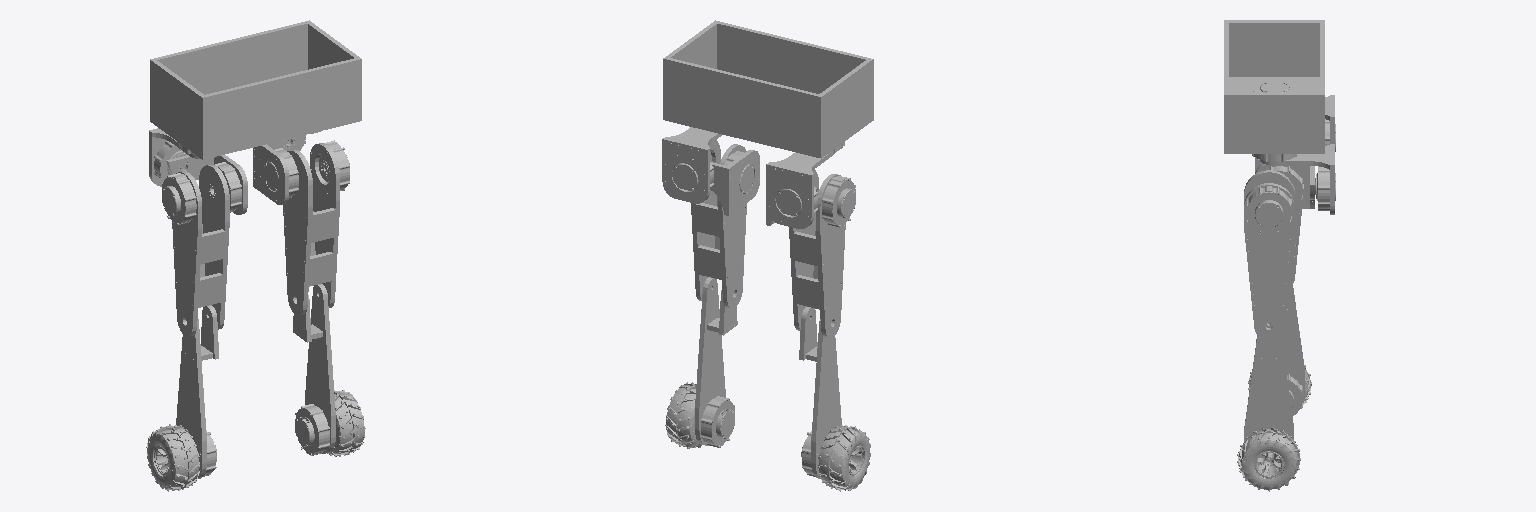
robot.urdf — HOANTHIEN_TEST:
<?xml version="1.0" encoding="utf-8"?>
<!-- This URDF was automatically created by SolidWorks to URDF Exporter! Originally created by Stephen Brawner (brawner@gmail.com) 
     Commit Version: 1.6.0-4-g7f85cfe  Build Version: 1.6.7995.38578
     For more information, please see http://wiki.ros.org/sw_urdf_exporter -->
<robot
  name="HOANTHIEN_TEST">
  <link
    name="than">
    <inertial>
      <origin
        xyz="-1.9106E-17 1.8362E-17 0.040584"
        rpy="0 0 0" />
      <mass
        value="2.5" />
      <inertia
        ixx="0.005598"
        ixy="2.9719E-08"
        ixz="7.4689E-19"
        iyy="0.015241"
        iyz="1.5647E-19"
        izz="0.017751" />
    </inertial>
    <visual>
      <origin
        xyz="0 0 0"
        rpy="0 0 0" />
      <geometry>
        <mesh
          filename="package://HOANTHIEN_TEST/meshes/than.STL" />
      </geometry>
      <material
        name="">
        <color
          rgba="0.75294 0.75294 0.75294 1" />
      </material>
    </visual>
    <collision>
      <origin
        xyz="0 0 0"
        rpy="0 0 0" />
      <geometry>
        <mesh
          filename="package://HOANTHIEN_TEST/meshes/than.STL" />
      </geometry>
    </collision>
  </link>
  <link
    name="eophai">
    <inertial>
      <origin
        xyz="0.088462 -0.047569 2.1318E-06"
        rpy="0 0 0" />
      <mass
        value="0.5" />
      <inertia
        ixx="0.00036543"
        ixy="-1.1178E-07"
        ixz="-8.9385E-10"
        iyy="0.00031624"
        iyz="1.486E-08"
        izz="0.00032404" />
    </inertial>
    <visual>
      <origin
        xyz="0 0 0"
        rpy="0 0 0" />
      <geometry>
        <mesh
          filename="package://HOANTHIEN_TEST/meshes/eophai.STL" />
      </geometry>
      <material
        name="">
        <color
          rgba="0.75294 0.75294 0.75294 1" />
      </material>
    </visual>
    <collision>
      <origin
        xyz="0 0 0"
        rpy="0 0 0" />
      <geometry>
        <mesh
          filename="package://HOANTHIEN_TEST/meshes/eophai.STL" />
      </geometry>
    </collision>
  </link>
  <joint
    name="eophai"
    type="continuous">
    <origin
      xyz="-0.115 0 -0.0295"
      rpy="1.5708 0 1.5708" />
    <parent
      link="than" />
    <child
      link="eophai" />
    <axis
      xyz="0 1 0" />
    <limit
      lower="-0.7"
      upper="0.7"
      effort="22"
      velocity="11.52" />
  </joint>
  <link
    name="xoaychanphai">
    <inertial>
      <origin
        xyz="-0.026182 -0.05199 -0.027696"
        rpy="0 0 0" />
      <mass
        value="0.5" />
      <inertia
        ixx="0.00022857"
        ixy="-9.5216E-06"
        ixz="-1.4919E-08"
        iyy="0.00035308"
        iyz="-1.1175E-07"
        izz="0.000209" />
    </inertial>
    <visual>
      <origin
        xyz="0 0 0"
        rpy="0 0 0" />
      <geometry>
        <mesh
          filename="package://HOANTHIEN_TEST/meshes/xoaychanphai.STL" />
      </geometry>
      <material
        name="">
        <color
          rgba="0.75294 0.75294 0.75294 1" />
      </material>
    </visual>
    <collision>
      <origin
        xyz="0 0 0"
        rpy="0 0 0" />
      <geometry>
        <mesh
          filename="package://HOANTHIEN_TEST/meshes/xoaychanphai.STL" />
      </geometry>
    </collision>
  </link>
  <joint
    name="xoaychanphai"
    type="continuous">
    <origin
      xyz="0 -0.07 0"
      rpy="-1.5708 0 1.5708" />
    <parent
      link="eophai" />
    <child
      link="xoaychanphai" />
    <axis
      xyz="0 0 1" />
    <limit
      lower="-0.4"
      upper="0.4"
      effort="22"
      velocity="11.52" />
  </joint>
  <link
    name="duiphai">
    <inertial>
      <origin
        xyz="-8.5149E-07 0.006764 0.096793"
        rpy="0 0 0" />
      <mass
        value="0.8" />
      <inertia
        ixx="0.0041434"
        ixy="8.9385E-10"
        ixz="1.486E-08"
        iyy="0.0044915"
        iyz="1.1178E-07"
        izz="0.00041762" />
    </inertial>
    <visual>
      <origin
        xyz="0 0 0"
        rpy="0 0 0" />
      <geometry>
        <mesh
          filename="package://HOANTHIEN_TEST/meshes/duiphai.STL" />
      </geometry>
      <material
        name="">
        <color
          rgba="0.75294 0.75294 0.75294 1" />
      </material>
    </visual>
    <collision>
      <origin
        xyz="0 0 0"
        rpy="0 0 0" />
      <geometry>
        <mesh
          filename="package://HOANTHIEN_TEST/meshes/duiphai.STL" />
      </geometry>
    </collision>
  </link>
  <joint
    name="duiphai"
    type="continuous">
    <origin
      xyz="-0.03 0 -0.01089"
      rpy="0 -1.5708 0" />
    <parent
      link="xoaychanphai" />
    <child
      link="duiphai" />
    <axis
      xyz="0 1 0" />
    <limit
      lower="-0.5"
      upper="1.8"
      effort="22"
      velocity="11.52" />
  </joint>
  <link
    name="ongchanphai">
    <inertial>
      <origin
        xyz="1.5549E-06 -0.010551 0.186"
        rpy="0 0 0" />
      <mass
        value="0.6" />
      <inertia
        ixx="0.0018923"
        ixy="-8.9385E-10"
        ixz="1.486E-08"
        iyy="0.0020924"
        iyz="-1.1178E-07"
        izz="0.00021843" />
    </inertial>
    <visual>
      <origin
        xyz="0 0 0"
        rpy="0 0 0" />
      <geometry>
        <mesh
          filename="package://HOANTHIEN_TEST/meshes/ongchanphai.STL" />
      </geometry>
      <material
        name="">
        <color
          rgba="0.75294 0.75294 0.75294 1" />
      </material>
    </visual>
    <collision>
      <origin
        xyz="0 0 0"
        rpy="0 0 0" />
      <geometry>
        <mesh
          filename="package://HOANTHIEN_TEST/meshes/ongchanphai.STL" />
      </geometry>
    </collision>
  </link>
  <joint
    name="ongchanphai"
    type="continuous">
    <origin
      xyz="0 0 0.26"
      rpy="0 0 3.1416" />
    <parent
      link="duiphai" />
    <child
      link="ongchanphai" />
    <axis
      xyz="0 1 0" />
    <limit
      lower="-0.5"
      upper="2.7"
      effort="44"
      velocity="5.75" />
  </joint>
  <link
    name="banhxephai">
    <inertial>
      <origin
        xyz="-0.038074 6.3283E-14 1.8114E-12"
        rpy="0 0 0" />
      <mass
        value="0.1" />
      <inertia
        ixx="0.00018832"
        ixy="-6.9547E-16"
        ixz="-1.458E-15"
        iyy="0.00012247"
        iyz="-5.5503E-16"
        izz="0.00012247" />
    </inertial>
    <visual>
      <origin
        xyz="0 0 0"
        rpy="0 0 0" />
      <geometry>
        <mesh
          filename="package://HOANTHIEN_TEST/meshes/banhxephai.STL" />
      </geometry>
      <material
        name="">
        <color
          rgba="0.75294 0.75294 0.75294 1" />
      </material>
    </visual>
    <collision>
      <origin
        xyz="0 0 0"
        rpy="0 0 0" />
      <geometry>
        <mesh
          filename="package://HOANTHIEN_TEST/meshes/banhxephai.STL" />
      </geometry>
    </collision>
  </link>
  <joint
    name="banhxephai"
    type="continuous">
    <origin
      xyz="0 -0.0205 0.28"
      rpy="-1.5663 0 1.5708" />
    <parent
      link="ongchanphai" />
    <child
      link="banhxephai" />
    <axis
      xyz="1 0 0" />
    <limit
      effort="22"
      velocity="11.52" />
  </joint>
  <link
    name="eotrai">
    <inertial>
      <origin
        xyz="0.088462 -0.047569 2.1318E-06"
        rpy="0 0 0" />
      <mass
        value="0.5" />
      <inertia
        ixx="0.00036543"
        ixy="-1.1178E-07"
        ixz="-8.9385E-10"
        iyy="0.00031624"
        iyz="1.486E-08"
        izz="0.00032404" />
    </inertial>
    <visual>
      <origin
        xyz="0 0 0"
        rpy="0 0 0" />
      <geometry>
        <mesh
          filename="package://HOANTHIEN_TEST/meshes/eotrai.STL" />
      </geometry>
      <material
        name="">
        <color
          rgba="0.75294 0.75294 0.75294 1" />
      </material>
    </visual>
    <collision>
      <origin
        xyz="0 0 0"
        rpy="0 0 0" />
      <geometry>
        <mesh
          filename="package://HOANTHIEN_TEST/meshes/eotrai.STL" />
      </geometry>
    </collision>
  </link>
  <joint
    name="eotrai"
    type="continuous">
    <origin
      xyz="0.115 0 -0.0295"
      rpy="1.5708 0 1.5708" />
    <parent
      link="than" />
    <child
      link="eotrai" />
    <axis
      xyz="0 1 0" />
    <limit
      lower="-0.7"
      upper="0.7"
      effort="22"
      velocity="11.52" />
  </joint>
  <link
    name="xoaychantrai">
    <inertial>
      <origin
        xyz="-0.05199 0.027638 -0.026248"
        rpy="0 0 0" />
      <mass
        value="0.5" />
      <inertia
        ixx="0.00035308"
        ixy="9.0724E-08"
        ixz="-9.5236E-06"
        iyy="0.000209"
        iyz="2.8397E-08"
        izz="0.00022857" />
    </inertial>
    <visual>
      <origin
        xyz="0 0 0"
        rpy="0 0 0" />
      <geometry>
        <mesh
          filename="package://HOANTHIEN_TEST/meshes/xoaychantrai.STL" />
      </geometry>
      <material
        name="">
        <color
          rgba="0.75294 0.75294 0.75294 1" />
      </material>
    </visual>
    <collision>
      <origin
        xyz="0 0 0"
        rpy="0 0 0" />
      <geometry>
        <mesh
          filename="package://HOANTHIEN_TEST/meshes/xoaychantrai.STL" />
      </geometry>
    </collision>
  </link>
  <joint
    name="xoaychantrai"
    type="continuous">
    <origin
      xyz="0 -0.07 0"
      rpy="1.573 -1.5708 3.1416" />
    <parent
      link="eotrai" />
    <child
      link="xoaychantrai" />
    <axis
      xyz="0 1 -0.0022142" />
    <limit
      lower="-0.4"
      upper="0.4"
      effort="22"
      velocity="11.52" />
  </joint>
  <link
    name="duitrai">
    <inertial>
      <origin
        xyz="-8.5149E-07 0.006764 0.096793"
        rpy="0 0 0" />
      <mass
        value="0.8" />
      <inertia
        ixx="0.0041434"
        ixy="8.9385E-10"
        ixz="1.486E-08"
        iyy="0.0044915"
        iyz="1.1178E-07"
        izz="0.00041762" />
    </inertial>
    <visual>
      <origin
        xyz="0 0 0"
        rpy="0 0 0" />
      <geometry>
        <mesh
          filename="package://HOANTHIEN_TEST/meshes/duitrai.STL" />
      </geometry>
      <material
        name="">
        <color
          rgba="0.75294 0.75294 0.75294 1" />
      </material>
    </visual>
    <collision>
      <origin
        xyz="0 0 0"
        rpy="0 0 0" />
      <geometry>
        <mesh
          filename="package://HOANTHIEN_TEST/meshes/duitrai.STL" />
      </geometry>
    </collision>
  </link>
  <joint
    name="duitrai"
    type="continuous">
    <origin
      xyz="0 -0.010824 -0.030024"
      rpy="3.1416 0.0022142 1.5708" />
    <parent
      link="xoaychantrai" />
    <child
      link="duitrai" />
    <axis
      xyz="0 -1 0" />
    <limit
      lower="-0.5"
      upper="1.8"
      effort="22"
      velocity="11.52" />
  </joint>
  <link
    name="ongchantrai">
    <inertial>
      <origin
        xyz="1.5549E-06 -0.010551 0.186"
        rpy="0 0 0" />
      <mass
        value="0.6" />
      <inertia
        ixx="0.0018923"
        ixy="-8.9385E-10"
        ixz="1.486E-08"
        iyy="0.0020924"
        iyz="-1.1178E-07"
        izz="0.00021843" />
    </inertial>
    <visual>
      <origin
        xyz="0 0 0"
        rpy="0 0 0" />
      <geometry>
        <mesh
          filename="package://HOANTHIEN_TEST/meshes/ongchantrai.STL" />
      </geometry>
      <material
        name="">
        <color
          rgba="0.75294 0.75294 0.75294 1" />
      </material>
    </visual>
    <collision>
      <origin
        xyz="0 0 0"
        rpy="0 0 0" />
      <geometry>
        <mesh
          filename="package://HOANTHIEN_TEST/meshes/ongchantrai.STL" />
      </geometry>
    </collision>
  </link>
  <joint
    name="ongchantrai"
    type="continuous">
    <origin
      xyz="0 0 0.26"
      rpy="0 0 3.1416" />
    <parent
      link="duitrai" />
    <child
      link="ongchantrai" />
    <axis
      xyz="0 -1 0" />
    <limit
      lower="-0.5"
      upper="2.7"
      effort="44"
      velocity="5.75" />
  </joint>
  <link
    name="banhxetrai">
    <inertial>
      <origin
        xyz="-0.038074 5.4401E-14 1.7979E-12"
        rpy="0 0 0" />
      <mass
        value="0.1" />
      <inertia
        ixx="0.00018832"
        ixy="-6.911E-16"
        ixz="-1.4297E-15"
        iyy="0.00012247"
        iyz="-5.9687E-16"
        izz="0.00012247" />
    </inertial>
    <visual>
      <origin
        xyz="0 0 0"
        rpy="0 0 0" />
      <geometry>
        <mesh
          filename="package://HOANTHIEN_TEST/meshes/banhxetrai.STL" />
      </geometry>
      <material
        name="">
        <color
          rgba="0.75294 0.75294 0.75294 1" />
      </material>
    </visual>
    <collision>
      <origin
        xyz="0 0 0"
        rpy="0 0 0" />
      <geometry>
        <mesh
          filename="package://HOANTHIEN_TEST/meshes/banhxetrai.STL" />
      </geometry>
    </collision>
  </link>
  <joint
    name="banhxetrai"
    type="continuous">
    <origin
      xyz="0 -0.0205000000000005 0.279999999999999"
      rpy="-1.92824122148289 0 1.5707963267949" />
    <parent
      link="ongchantrai" />
    <child
      link="banhxetrai" />
    <axis
      xyz="1 0 0" />
    <limit
      effort="22"
      velocity="11.52" />
  </joint>
</robot>

--- Render facts (derived) ---
Views: 3 orthographic renders of the robot side by side, from view 1: azimuth 30°, elevation 25°; view 2: azimuth 150°, elevation 25°; view 3: azimuth 270°, elevation 25°.
Model HOANTHIEN_TEST with 11 links and 10 joints (10 continuous), rooted at than, posed all joints at 0.
Links seen in each view (by area): view 1: than, duiphai, duitrai, ongchantrai, ongchanphai, banhxephai, xoaychantrai, xoaychanphai, banhxetrai, eophai; view 2: than, duiphai, duitrai, ongchantrai, ongchanphai, eophai, eotrai, banhxephai, xoaychantrai, banhxetrai; view 3: than, duitrai, ongchantrai, banhxetrai, ongchanphai, eotrai, xoaychantrai.
Boxes of the visible links, left/top/right/bottom form: than: left=150, top=20, right=361, bottom=159; duiphai: left=162, top=164, right=229, bottom=336; duitrai: left=283, top=140, right=349, bottom=315; ongchantrai: left=293, top=284, right=335, bottom=455; ongchanphai: left=176, top=305, right=218, bottom=478; banhxephai: left=146, top=424, right=199, bottom=491; xoaychantrai: left=253, top=135, right=303, bottom=204; xoaychanphai: left=166, top=155, right=247, bottom=214; banhxetrai: left=327, top=390, right=365, bottom=456; eophai: left=149, top=128, right=214, bottom=186; than: left=663, top=20, right=873, bottom=158; duiphai: left=789, top=169, right=855, bottom=337; duitrai: left=691, top=140, right=746, bottom=308; ongchantrai: left=695, top=277, right=737, bottom=447; ongchanphai: left=799, top=307, right=841, bottom=478; eophai: left=766, top=152, right=834, bottom=228; eotrai: left=662, top=127, right=721, bottom=203; banhxephai: left=818, top=425, right=870, bottom=491; xoaychantrai: left=710, top=150, right=759, bottom=215; banhxetrai: left=665, top=382, right=701, bottom=448; than: left=1224, top=20, right=1324, bottom=161; duitrai: left=1244, top=170, right=1293, bottom=339; ongchantrai: left=1244, top=323, right=1293, bottom=465; banhxetrai: left=1237, top=427, right=1300, bottom=491; ongchanphai: left=1281, top=285, right=1304, bottom=415; eotrai: left=1260, top=144, right=1335, bottom=214; xoaychantrai: left=1255, top=164, right=1314, bottom=208.
Bounding box of the posed robot: 0.4078 × 0.2214 × 0.8635 m (x, y, z).
11 mesh visuals loaded from 11 distinct referenced files (11 binary STL).
